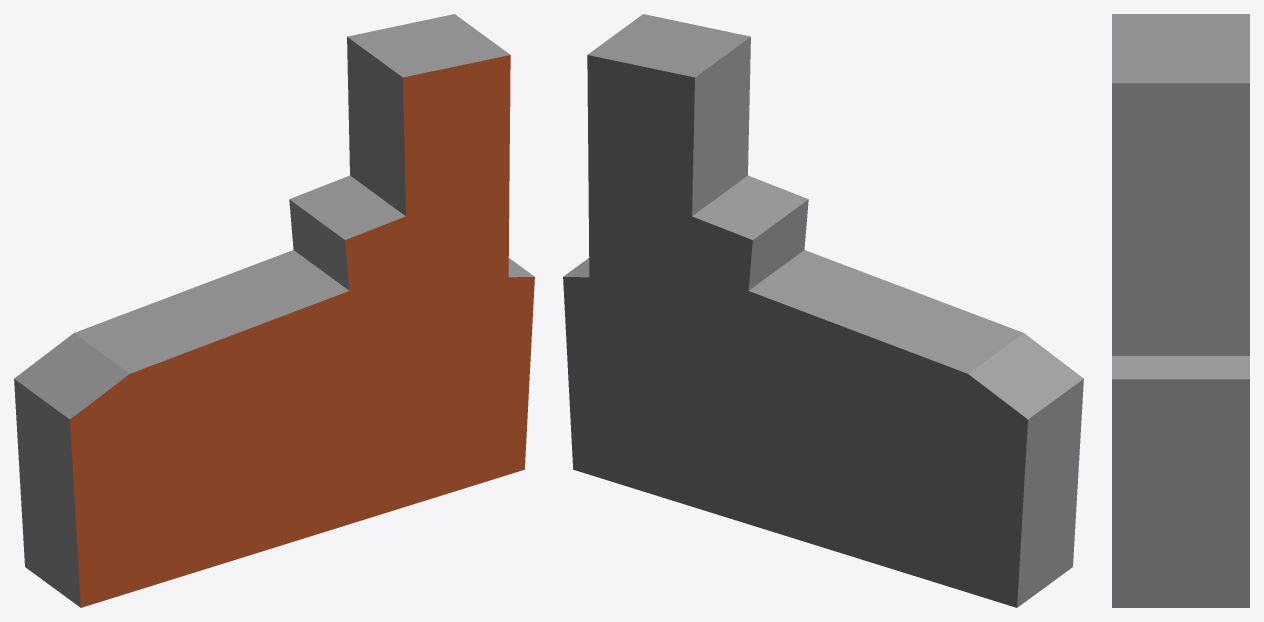
The model's file is construction_4748_assumed_A_Casa_h6m.obj.
3 renders of one model, left to right at view 1: azimuth 30°, elevation 25°; view 2: azimuth 150°, elevation 25°; view 3: azimuth 270°, elevation 25°, orthographic. The views are drawn at different scales.
Parts seen in each view (by area): view 1: construction_4748_assumed_A_Casa; view 2: construction_4748_assumed_A_Casa; view 3: construction_4748_assumed_A_Casa.
Part boxes in pixels (x1,y1,x2,y2): construction_4748_assumed_A_Casa: [14, 14, 534, 607]; construction_4748_assumed_A_Casa: [563, 14, 1083, 607]; construction_4748_assumed_A_Casa: [1112, 14, 1249, 607].
Bounding box in the file's own units: 28.81 × 26.76 × 6.
